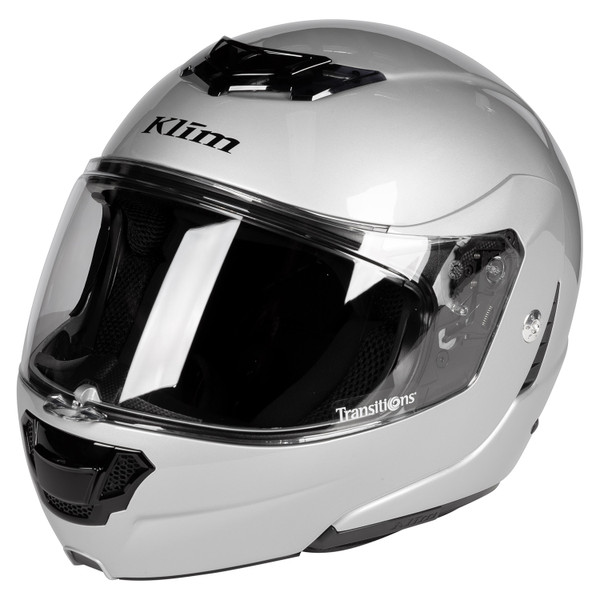with_helmet: (13, 15, 588, 584)
